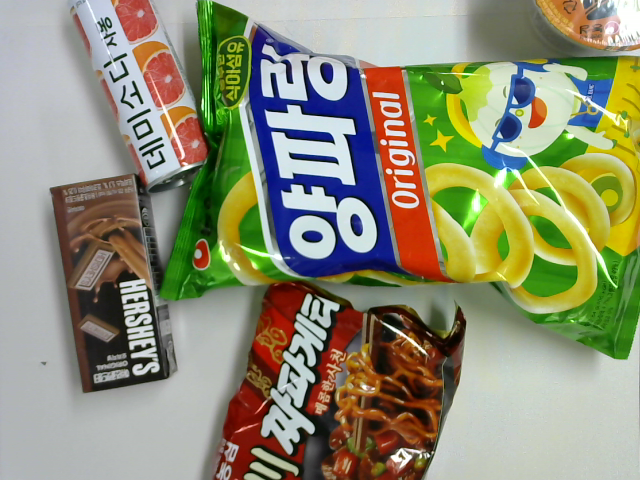Demisoda_Grapefruit_Can_250ml: (64, 1, 216, 194)
Hush_Choco_Drink: (48, 172, 179, 397)
Oninon_Ring: (157, 1, 639, 364)
Sichuan_Chapaghetti: (207, 278, 468, 480)
Udongmini: (526, 1, 640, 60)
